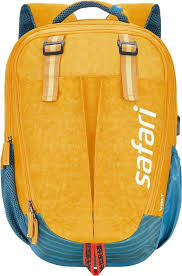backpack: (0, 0, 181, 274)
